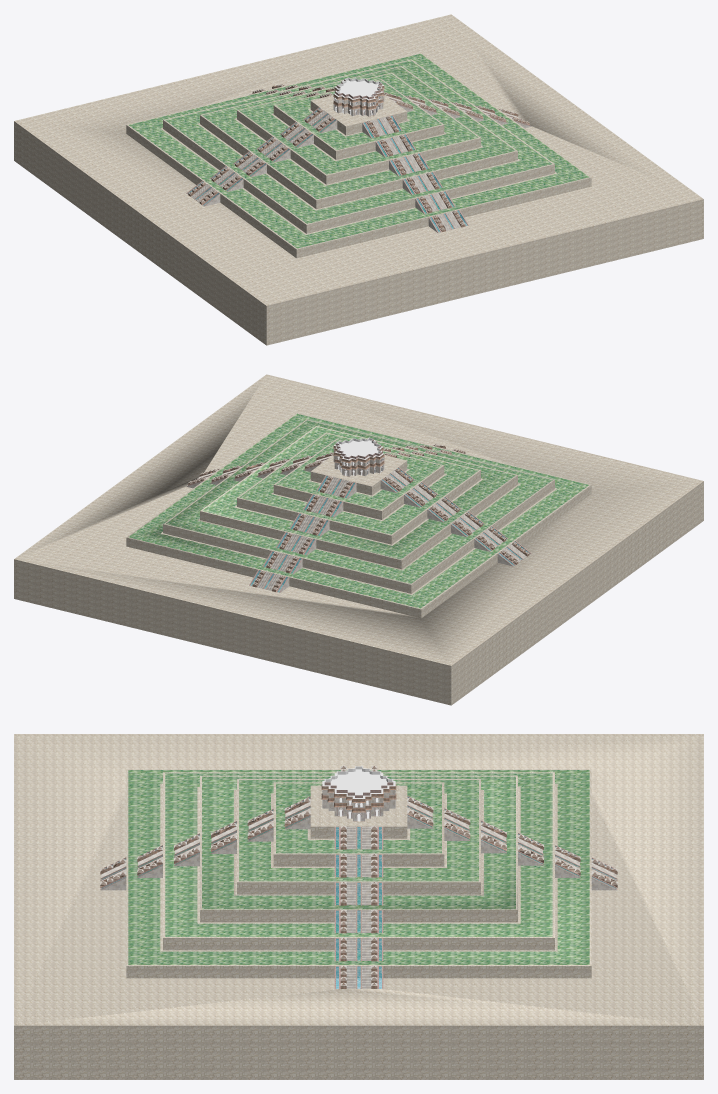
The picture shows the model from 3 angles, top to bottom: view 1: azimuth 30°, elevation 25°; view 2: azimuth 150°, elevation 25°; view 3: azimuth 270°, elevation 25°; orthographic projection. The views are drawn at different scales.
Parts seen in each view (by area): view 1: Model, Component_1_10, Component_1_8, Component_1_9, Component_1_11, Component_1_12, Component_1_7, Component_1_19, Component_1_17, Component_1_14, Component_1_15, Component_1_16 (+1 smaller); view 2: Model, Component_1_22, Component_1_20, Component_1_13, Component_1_24, Component_1_23, Component_1_21, Component_1_19, Component_1_14, Component_1_17, Component_1_16, Component_1_15 (+1 smaller); view 3: Model, Component_1_4, Component_1_6, Component_1_5, Component_1_2, Component_1_3, Component_1_1, Component_1_12, Component_1_24, Component_1_11, Component_1_10, Component_1_13 (+7 smaller).
Boxes of the visible parts, bbox=[...] form: Model: bbox=[14, 14, 703, 345]; Component_1_10: bbox=[375, 134, 415, 157]; Component_1_8: bbox=[402, 171, 442, 194]; Component_1_9: bbox=[389, 153, 429, 176]; Component_1_11: bbox=[362, 115, 402, 138]; Component_1_12: bbox=[428, 209, 468, 232]; Component_1_7: bbox=[415, 191, 455, 214]; Component_1_19: bbox=[303, 107, 337, 132]; Component_1_17: bbox=[256, 136, 290, 162]; Component_1_14: bbox=[186, 180, 220, 206]; Component_1_15: bbox=[209, 166, 243, 191]; Component_1_16: bbox=[233, 151, 266, 176]; Model: bbox=[14, 374, 703, 705]; Component_1_22: bbox=[276, 532, 316, 555]; Component_1_20: bbox=[303, 494, 343, 517]; Component_1_13: bbox=[316, 475, 356, 498]; Component_1_24: bbox=[249, 569, 289, 592]; Component_1_23: bbox=[262, 551, 302, 574]; Component_1_21: bbox=[289, 513, 329, 536]; Component_1_19: bbox=[380, 467, 414, 492]; Component_1_14: bbox=[497, 540, 531, 566]; Component_1_17: bbox=[427, 496, 461, 522]; Component_1_16: bbox=[451, 511, 484, 536]; Component_1_15: bbox=[474, 526, 508, 551]; Model: bbox=[14, 734, 703, 1079]; Component_1_4: bbox=[334, 881, 383, 905]; Component_1_6: bbox=[334, 825, 383, 849]; Component_1_5: bbox=[334, 853, 383, 877]; Component_1_2: bbox=[334, 937, 383, 961]; Component_1_3: bbox=[334, 909, 383, 933]; Component_1_1: bbox=[334, 965, 383, 988]; Component_1_12: bbox=[100, 857, 126, 890]; Component_1_24: bbox=[591, 857, 617, 890]; Component_1_11: bbox=[284, 796, 310, 829]; Component_1_10: bbox=[247, 809, 273, 841]; Component_1_13: bbox=[407, 796, 433, 828].
Bounding box in the file's own units: 66.45 × 16.3 × 66.45.
7 materials, 6 textured.
